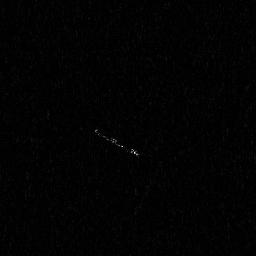ship: (91, 125, 141, 158)
